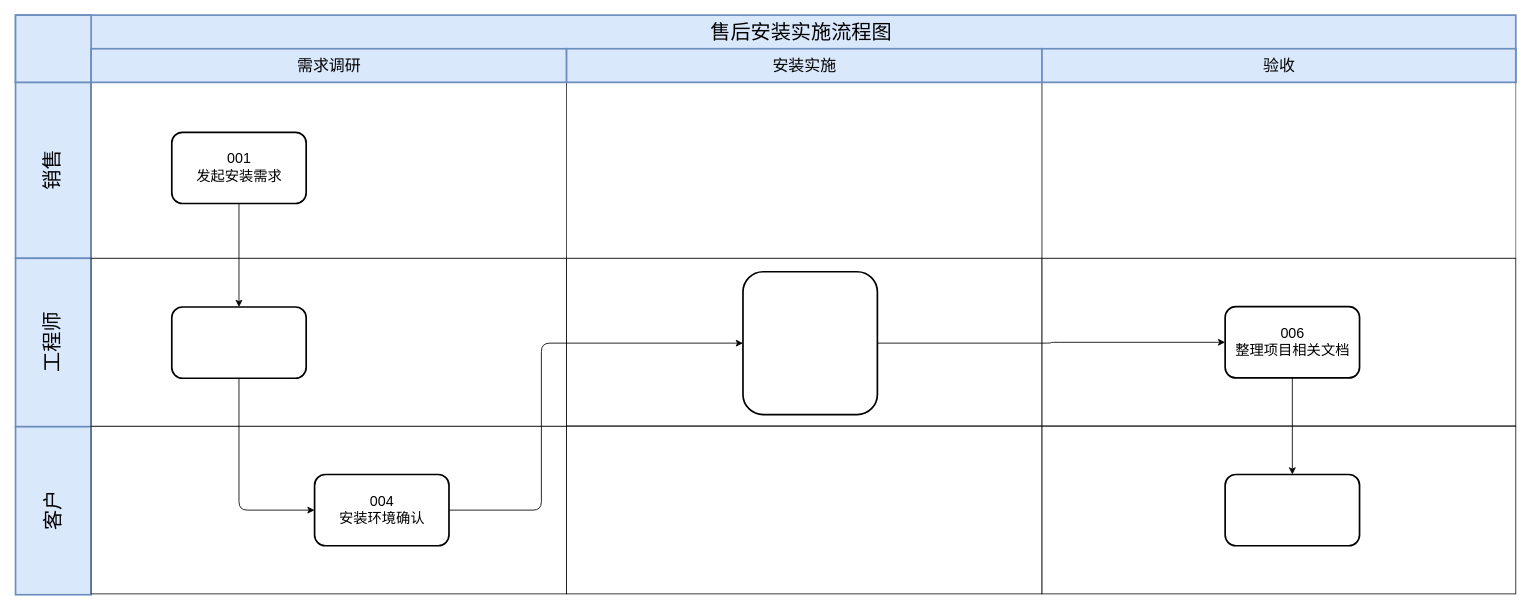
This 1530x610 diagram has some shape labels left out. Each missing label, with the centre of its shape:
002 使用《项目需求调研 表》与用户确认需求 和环境: point (239, 342)
005 验货 安装 调试 测试 培训: point (810, 342)
007 项目验收: point (1292, 509)
v 1.0: point (53, 48)
